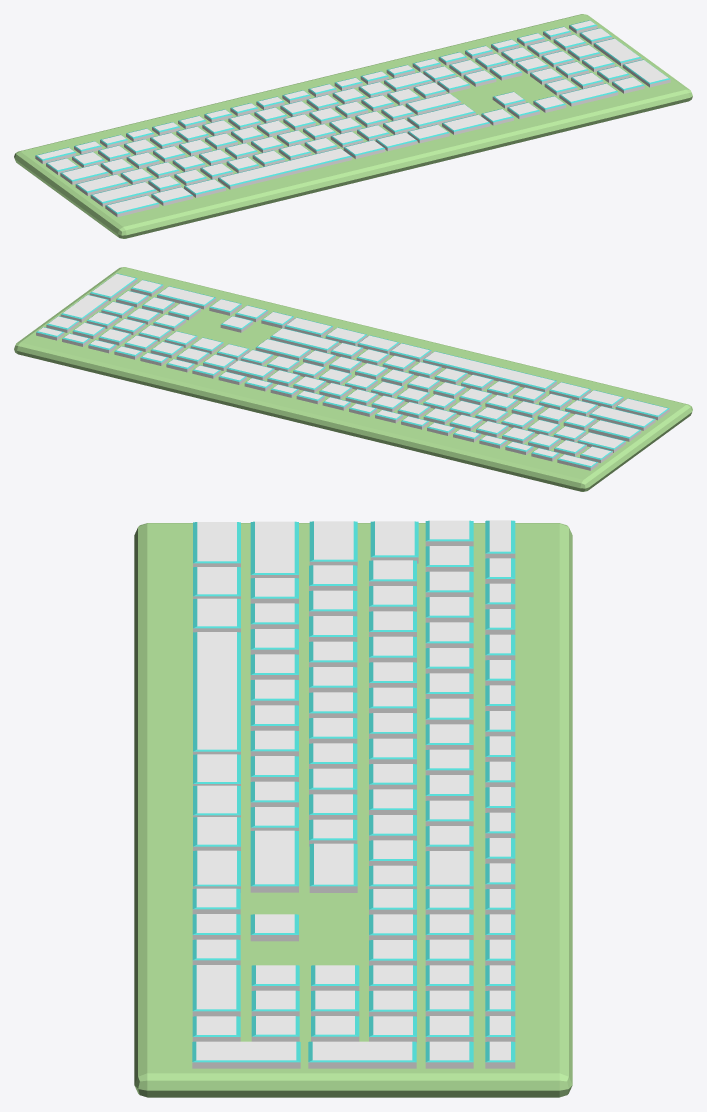
Rendered from keyboard.fbx.
3 views of the same model, one above another, from view 1: azimuth 30°, elevation 25°; view 2: azimuth 150°, elevation 25°; view 3: azimuth 270°, elevation 25° (orthographic). The views are drawn at different scales.
Parts seen in each view (by area): view 1: keyboard; view 2: keyboard; view 3: keyboard.
Part boxes in pixels (box(x1,y1,x2,y2)): keyboard: box(14, 14, 692, 238); keyboard: box(14, 267, 692, 491); keyboard: box(134, 520, 572, 1097).
Size of the model in its own units: 505 by 13.17 by 167.
